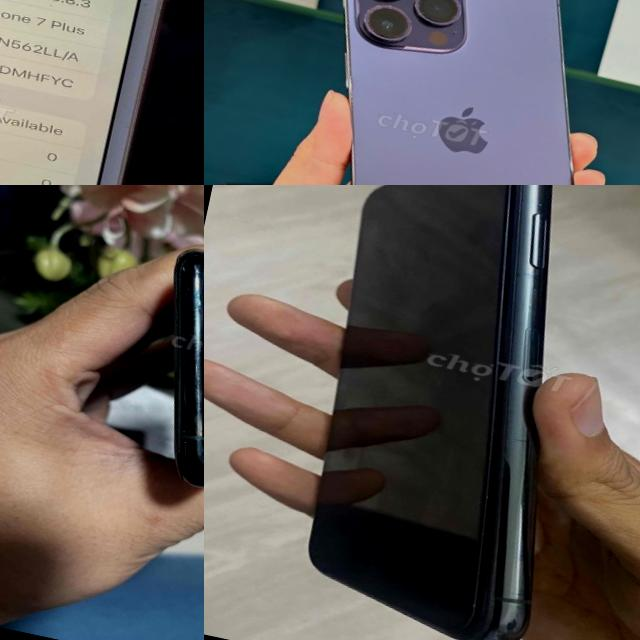scratch: (170, 424, 204, 491)
